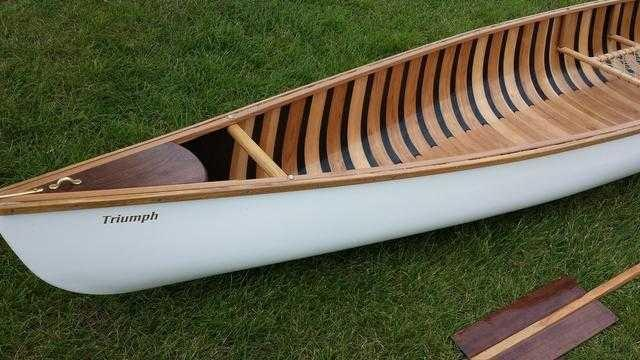kayak: (0, 7, 639, 303)
